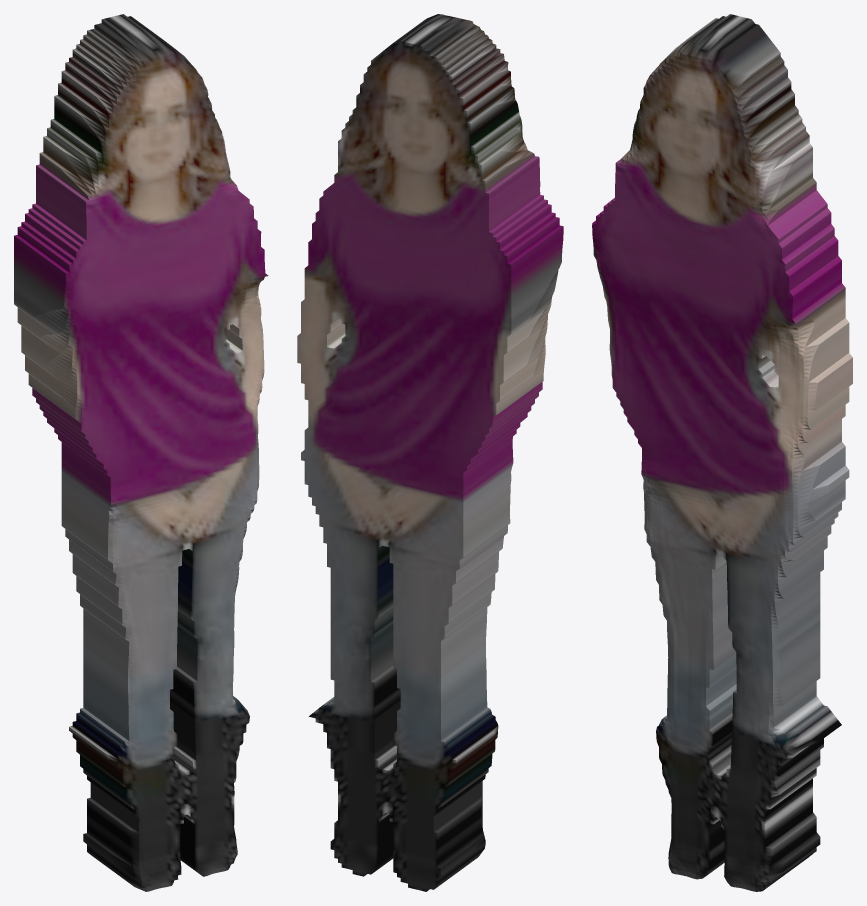
Rendered from avatar_212631.glb.
The picture shows the model from 3 angles, left to right: view 1: azimuth 30°, elevation 25°; view 2: azimuth 150°, elevation 25°; view 3: azimuth 330°, elevation 25°; orthographic projection. The views are drawn at different scales.
Visible parts, largest first — view 1: world; view 2: world; view 3: world.
Boxes of the visible parts, <box> form: world: <box>14,14,268,891</box>; world: <box>297,14,563,891</box>; world: <box>592,14,852,891</box>.
Size of the model in its own units: 11.02 by 41.61 by 4.68.
